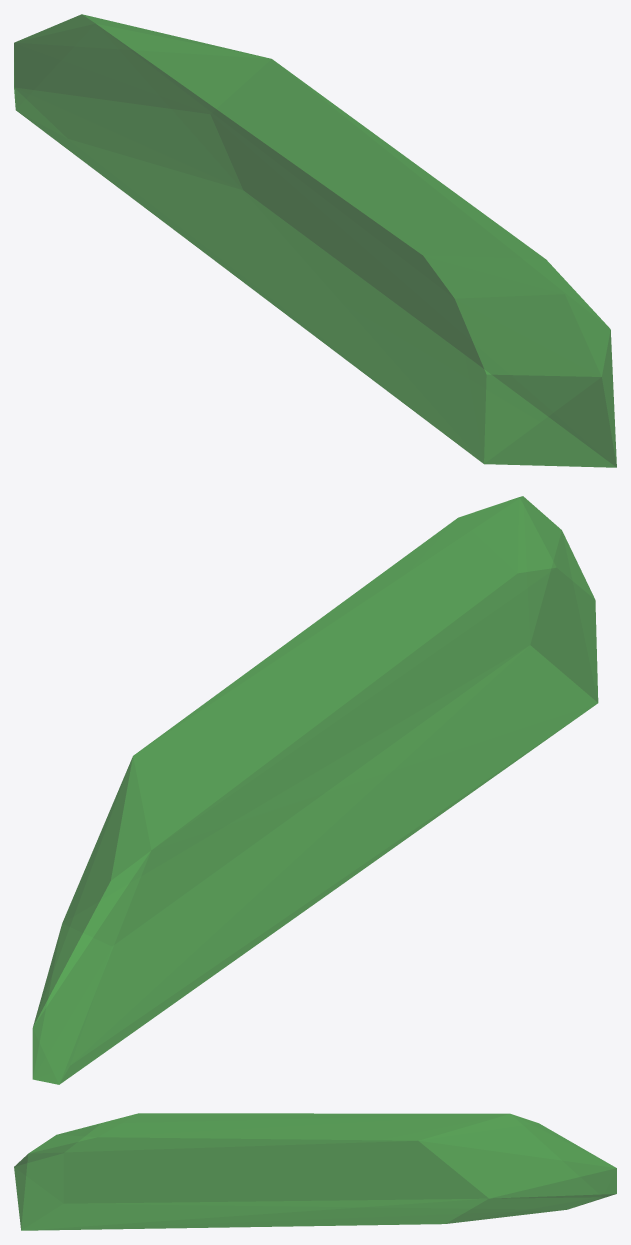
3 views of the same model, one above another, from view 1: azimuth 30°, elevation 25°; view 2: azimuth 150°, elevation 25°; view 3: azimuth 270°, elevation 25° (orthographic). The views are drawn at different scales.
Visible parts, largest first — view 1: Shape_IndexedFaceSet.015_Shape_IndexedFaceSet.16482; view 2: Shape_IndexedFaceSet.015_Shape_IndexedFaceSet.16482; view 3: Shape_IndexedFaceSet.015_Shape_IndexedFaceSet.16482.
Boxes of the visible parts, x1,y1,x2,y2 form: Shape_IndexedFaceSet.015_Shape_IndexedFaceSet.16482: (14, 14, 616, 467); Shape_IndexedFaceSet.015_Shape_IndexedFaceSet.16482: (32, 496, 598, 1084); Shape_IndexedFaceSet.015_Shape_IndexedFaceSet.16482: (14, 1113, 616, 1230).
Size of the model in its own units: 0.0358 by 0.0572 by 0.3383.
